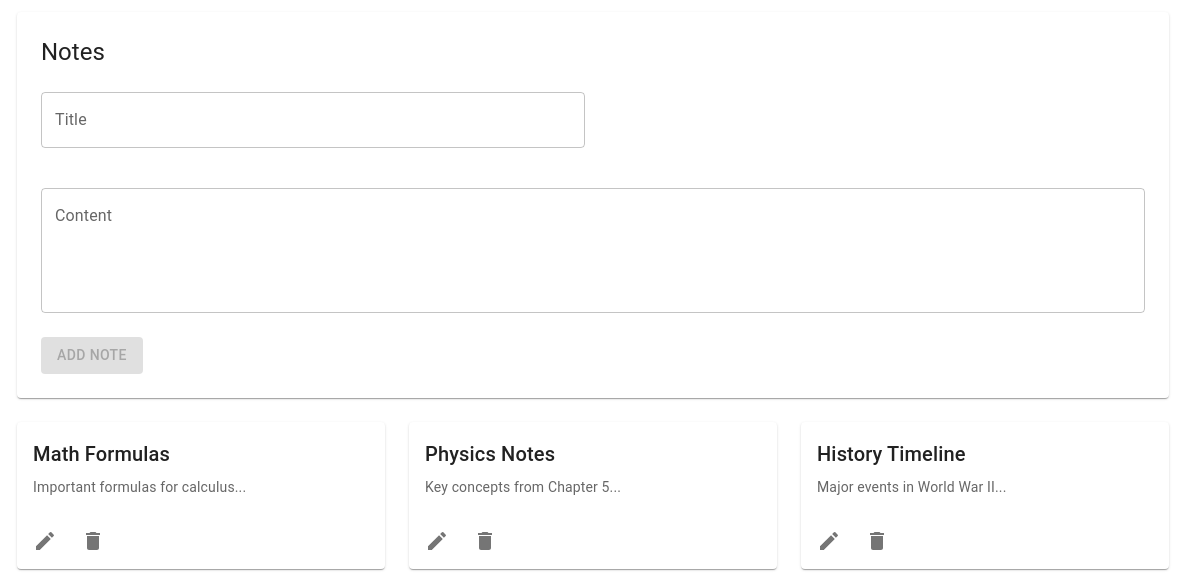
Test case: Notes Component › deletes a note
The width and height of the screenshot is (1187, 588).
Note: Delete first note
Click the 1st button with test id "DeleteIcon" at coordinates (93, 541), box [73, 521, 113, 561]
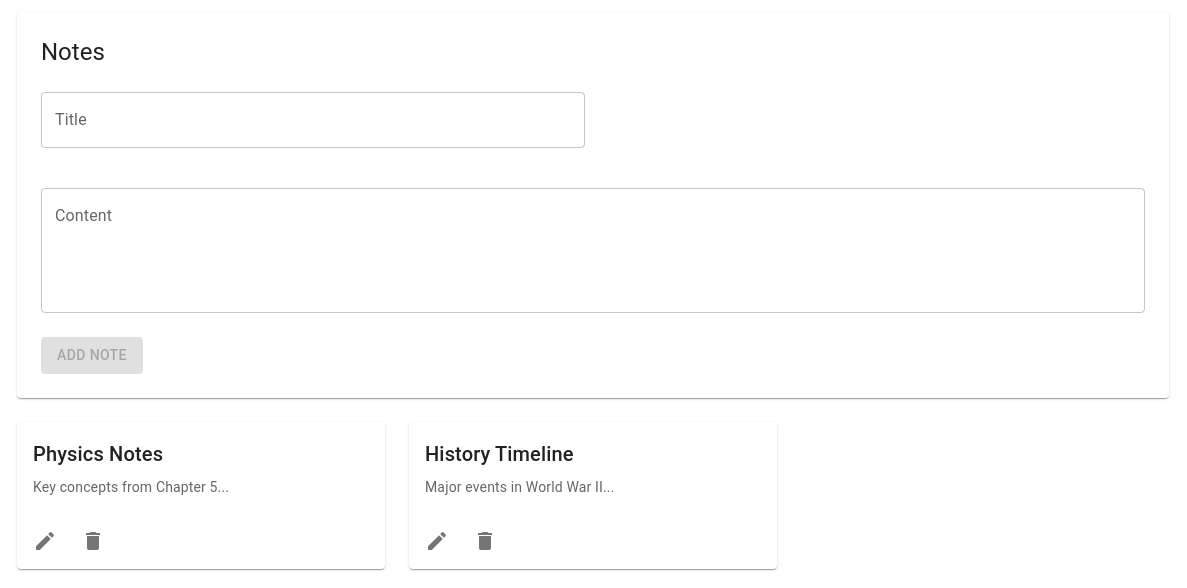
Expected: the heading "Math Formulas" is gone
